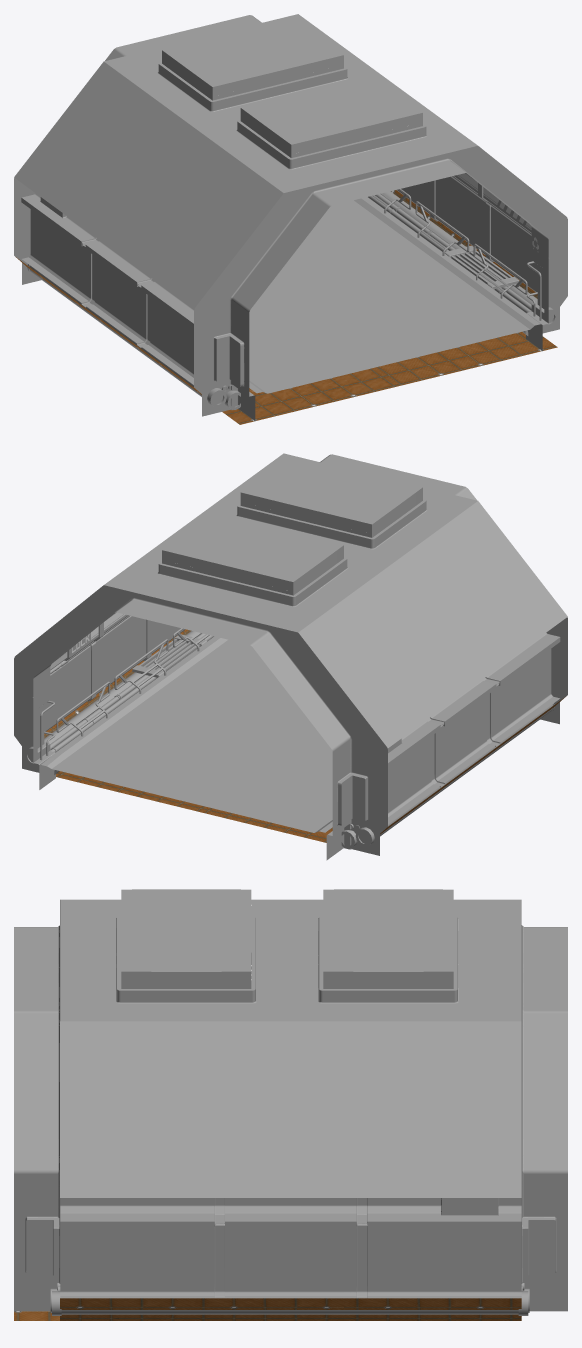
The model's file is Corridor_01.fbx.
3 views of the same model, one above another, from view 1: azimuth 30°, elevation 25°; view 2: azimuth 150°, elevation 25°; view 3: azimuth 270°, elevation 25° (orthographic). The views are drawn at different scales.
Visible parts, largest first — view 1: Corridor_01; view 2: Corridor_01; view 3: Corridor_01.
Boxes of the visible parts, box(x1,y1,x2,y2) form: Corridor_01: box(14, 14, 567, 424); Corridor_01: box(14, 453, 567, 860); Corridor_01: box(14, 889, 567, 1320).
Size of the model in its own units: 20 by 11.58 by 20.
